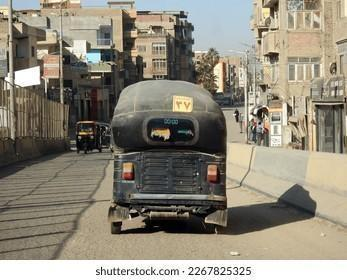keke: (106, 79, 233, 238), (76, 120, 98, 156)
